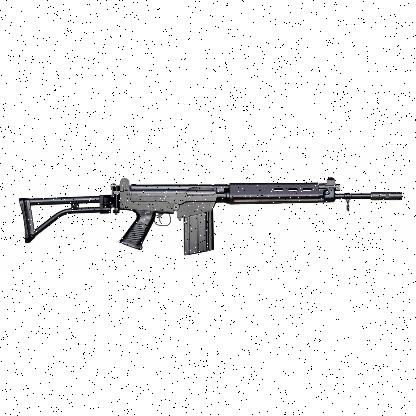gun: (18, 177, 402, 254)
